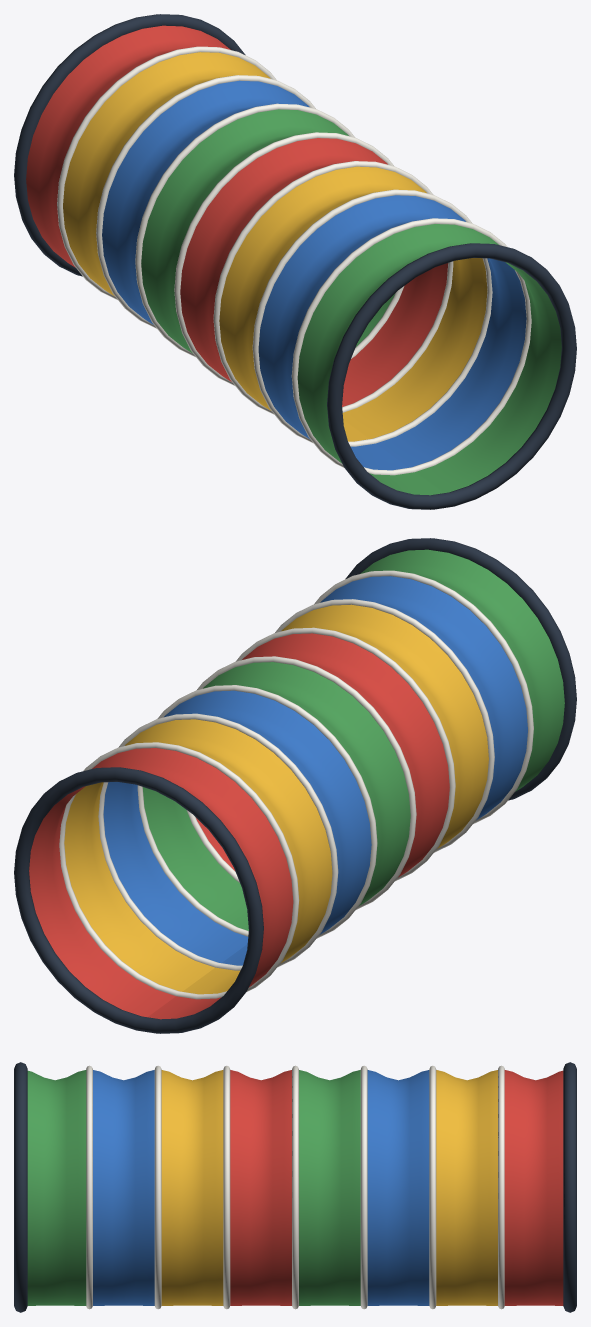
The picture shows the model from 3 angles, top to bottom: view 1: azimuth 30°, elevation 25°; view 2: azimuth 150°, elevation 25°; view 3: azimuth 270°, elevation 25°; orthographic projection. The views are drawn at different scales.
Parts seen in each view (by area): view 1: TUN_fabric_blue, TUN_fabric_yellow, TUN_fabric_green, TUN_fabric_red, TUN_ring_wire, TUN_rim_band; view 2: TUN_fabric_yellow, TUN_fabric_blue, TUN_fabric_red, TUN_fabric_green, TUN_ring_wire, TUN_rim_band; view 3: TUN_fabric_blue, TUN_fabric_yellow, TUN_fabric_green, TUN_fabric_red, TUN_ring_wire, TUN_rim_band.
Part boxes in pixels (bbox=[...]): TUN_fabric_blue: bbox=[102, 80, 526, 470]; TUN_fabric_yellow: bbox=[63, 52, 487, 441]; TUN_fabric_green: bbox=[141, 109, 561, 495]; TUN_fabric_red: bbox=[26, 25, 448, 406]; TUN_ring_wire: bbox=[57, 46, 531, 475]; TUN_rim_band: bbox=[14, 14, 576, 509]; TUN_fabric_yellow: bbox=[64, 604, 488, 994]; TUN_fabric_blue: bbox=[103, 576, 527, 965]; TUN_fabric_red: bbox=[29, 633, 449, 1019]; TUN_fabric_green: bbox=[142, 549, 564, 930]; TUN_ring_wire: bbox=[59, 570, 533, 999]; TUN_rim_band: bbox=[14, 538, 576, 1033]; TUN_fabric_blue: bbox=[93, 1070, 429, 1305]; TUN_fabric_yellow: bbox=[161, 1070, 497, 1305]; TUN_fabric_green: bbox=[27, 1070, 360, 1305]; TUN_fabric_red: bbox=[230, 1070, 563, 1305]; TUN_ring_wire: bbox=[86, 1065, 504, 1309]; TUN_rim_band: bbox=[14, 1062, 576, 1312].
Size of the model in its own units: 1.65 by 1.65 by 3.69.
